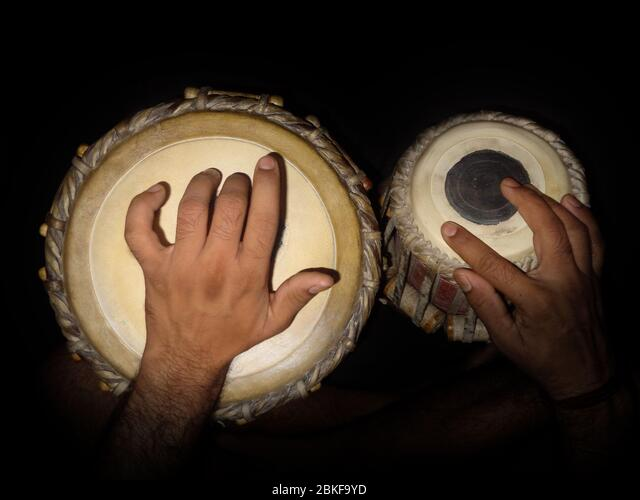tabla: (43, 93, 379, 421), (389, 111, 587, 335)
